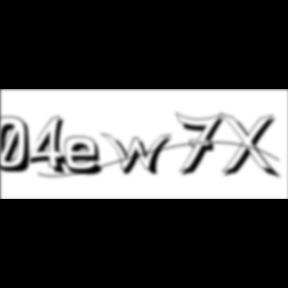0: (0, 115, 38, 174)
4: (28, 115, 74, 179)
7: (176, 111, 231, 179)
X: (219, 112, 283, 182)
e: (65, 135, 111, 178)
w: (101, 132, 179, 178)
